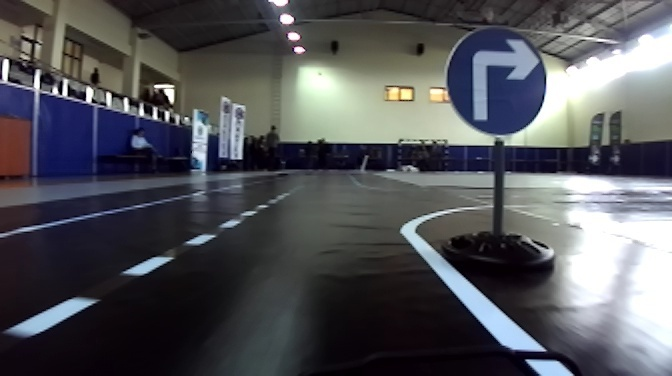saga_donus: (448, 27, 546, 138)
